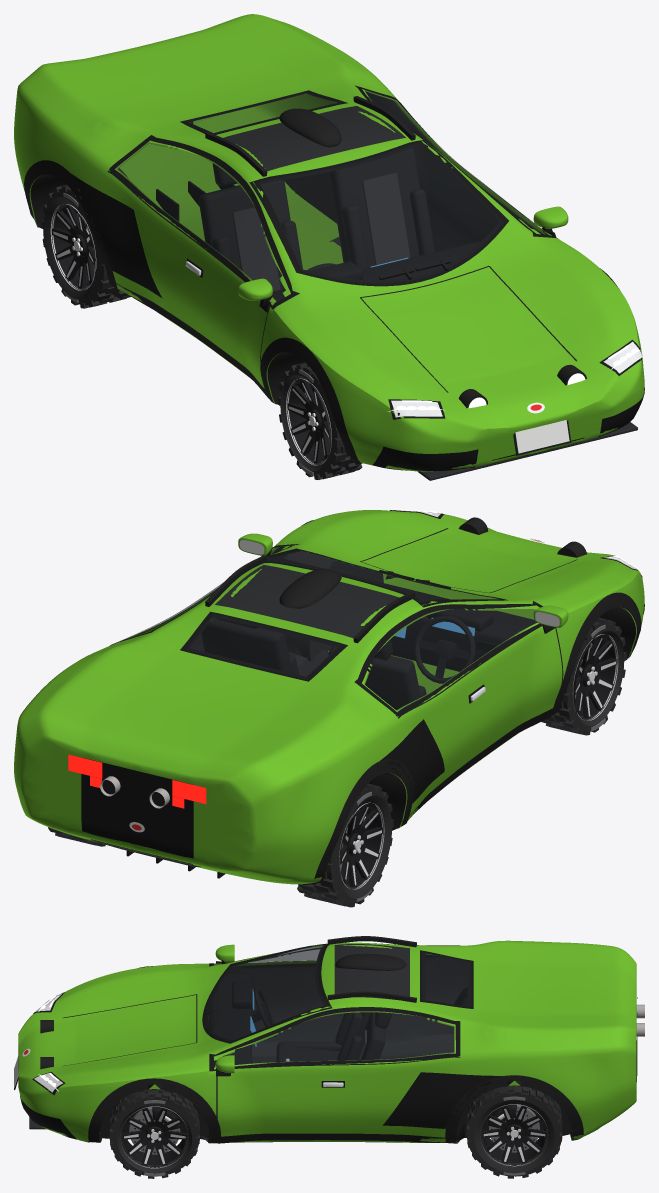
The model's file is sterrato.glb.
3 renders of one model, top to bottom at view 1: azimuth 30°, elevation 25°; view 2: azimuth 150°, elevation 25°; view 3: azimuth 270°, elevation 25°, orthographic. The views are drawn at different scales.
Parts seen in each view (by area): view 1: Body, Wheel_RR, Wheel_FR; view 2: Body, Wheel_RR, Wheel_FR; view 3: Body, Wheel_RL, Wheel_FL.
Part boxes in pixels (bbox=[...]): Body: bbox=[14, 14, 644, 480]; Wheel_RR: bbox=[41, 184, 130, 308]; Wheel_FR: bbox=[278, 362, 362, 479]; Body: bbox=[14, 509, 644, 885]; Wheel_RR: bbox=[297, 783, 393, 907]; Wheel_FR: bbox=[541, 617, 626, 735]; Body: bbox=[14, 936, 644, 1143]; Wheel_RL: bbox=[466, 1085, 562, 1178]; Wheel_FL: bbox=[109, 1089, 199, 1178].
Size of the model in its own units: 2.1 by 1.36 by 4.61.
